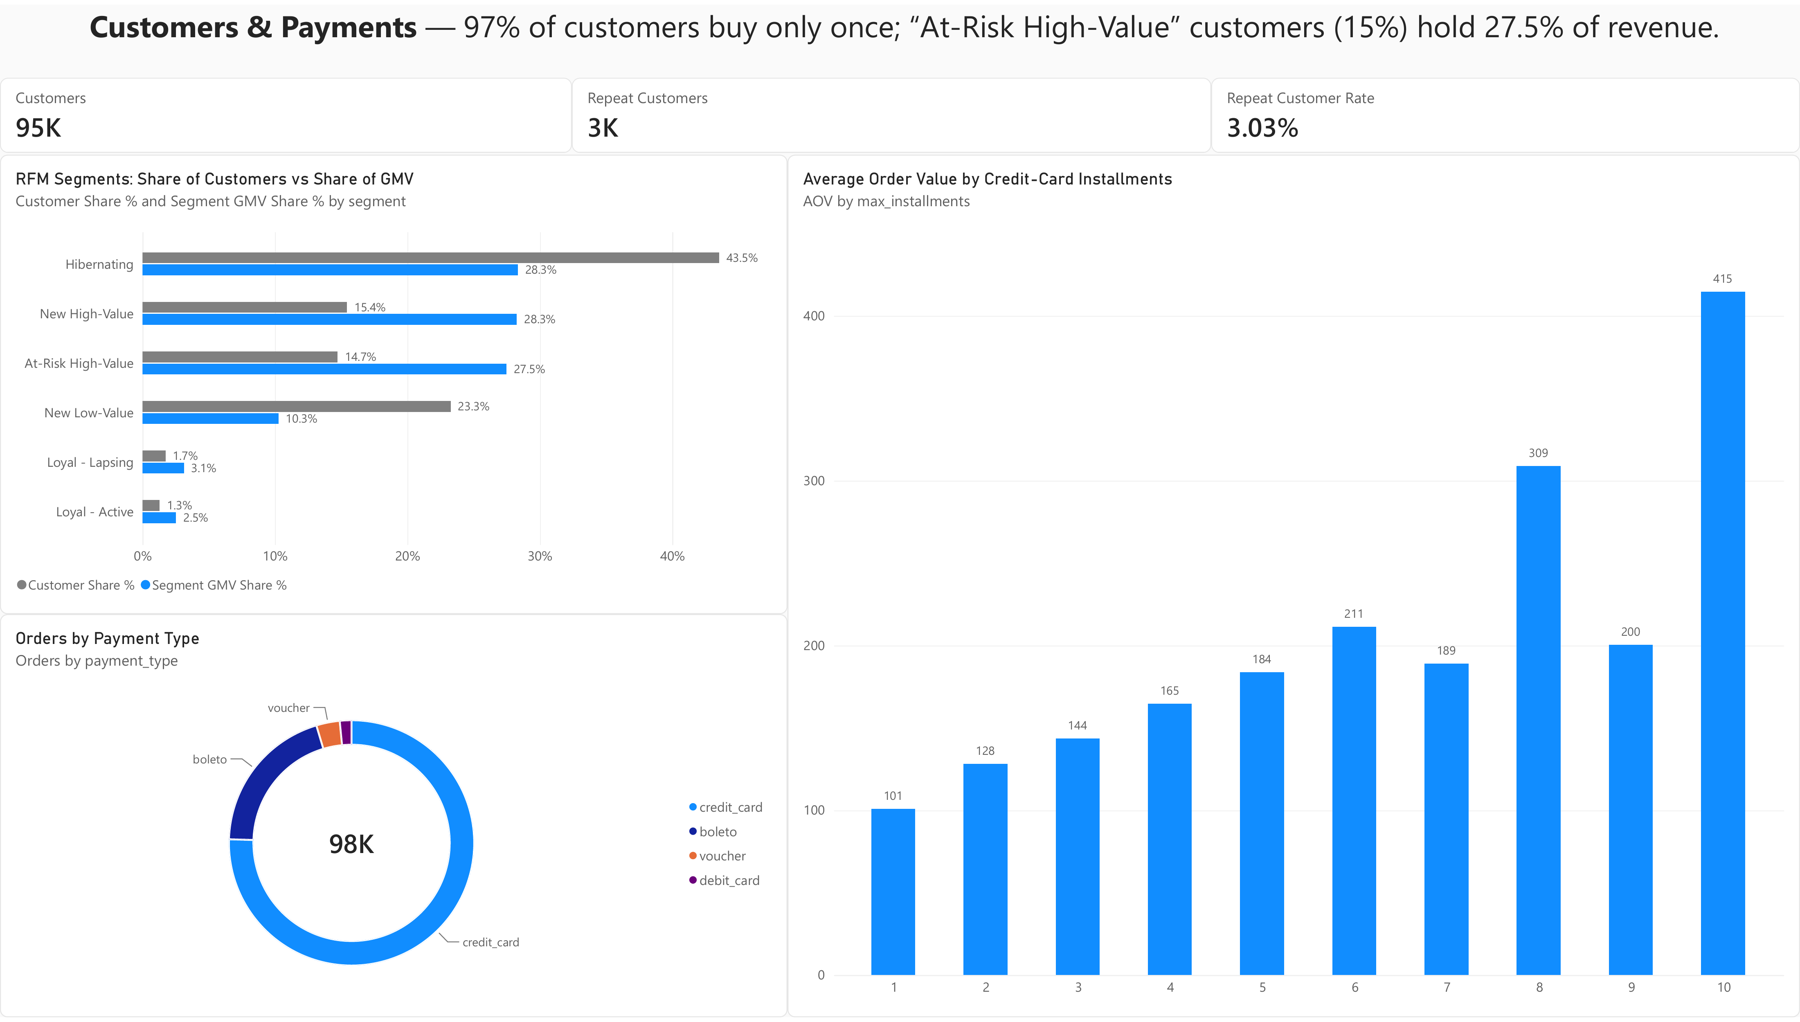

The page's visual inventory and layout, read from the dashboard file:
{"tool":"powerbi","page":{"name":"Customers","canvas":[1920,1080],"ordinal":2},"visuals":[{"type":"textbox","box":[10,0,1910,93.3],"z":0},{"type":"cardVisual","fields":{"Data":["fct_orders.Customers"]},"box":[0,78,610,80],"z":1},{"type":"cardVisual","fields":{"Data":["fct_orders.Repeat Customers"]},"box":[610,78,682,80],"z":2},{"type":"cardVisual","fields":{"Data":["fct_orders.Repeat Customer Rate"]},"box":[1292,78,628,80],"z":3},{"type":"clusteredBarChart","title":"RFM Segments: Share of Customers vs Share of GMV","fields":{"Category":["dim_customer.segment"],"Y":["fct_orders.Customer Share %","fct_orders.Segment GMV Share %"]},"box":[0,160,840,490],"z":4},{"type":"donutChart","title":"Orders by Payment Type","fields":{"Category":["fct_orders.payment_type"],"Y":["fct_orders.Orders"]},"box":[0,650,840,430],"z":5},{"type":"clusteredColumnChart","title":"Average Order Value by Credit-Card Installments","fields":{"Category":["fct_orders.max_installments"],"Y":["fct_orders.AOV"]},"box":[840,160,1080,920],"z":6}]}

Visuals, with their boxes in screenshot pixels (x1, y1, x2, y2), scaled from the page's 1920x1080 canvas onto the 1800x1022 screenshot:
textbox: BBox(9, 0, 1799, 88)
cardVisual - fct_orders.Customers: BBox(0, 74, 572, 150)
cardVisual - fct_orders.Repeat Customers: BBox(572, 74, 1211, 150)
cardVisual - fct_orders.Repeat Customer Rate: BBox(1211, 74, 1799, 150)
"RFM Segments: Share of Customers vs Share of GMV" clusteredBarChart: BBox(0, 151, 788, 615)
"Orders by Payment Type" donutChart: BBox(0, 615, 788, 1021)
"Average Order Value by Credit-Card Installments" clusteredColumnChart: BBox(788, 151, 1799, 1021)
